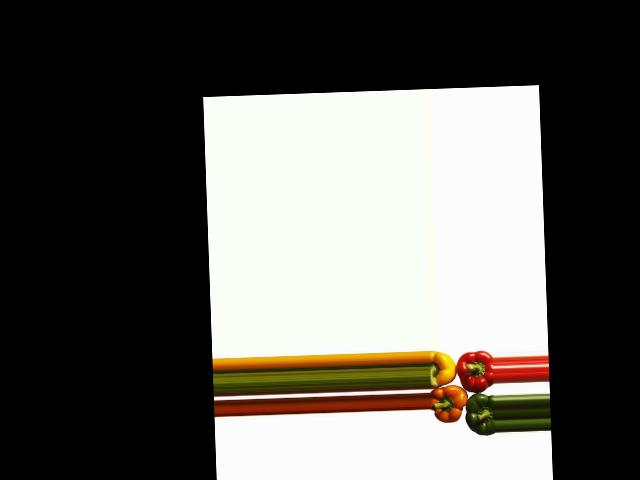bell_pepper: (428, 348, 459, 390)
